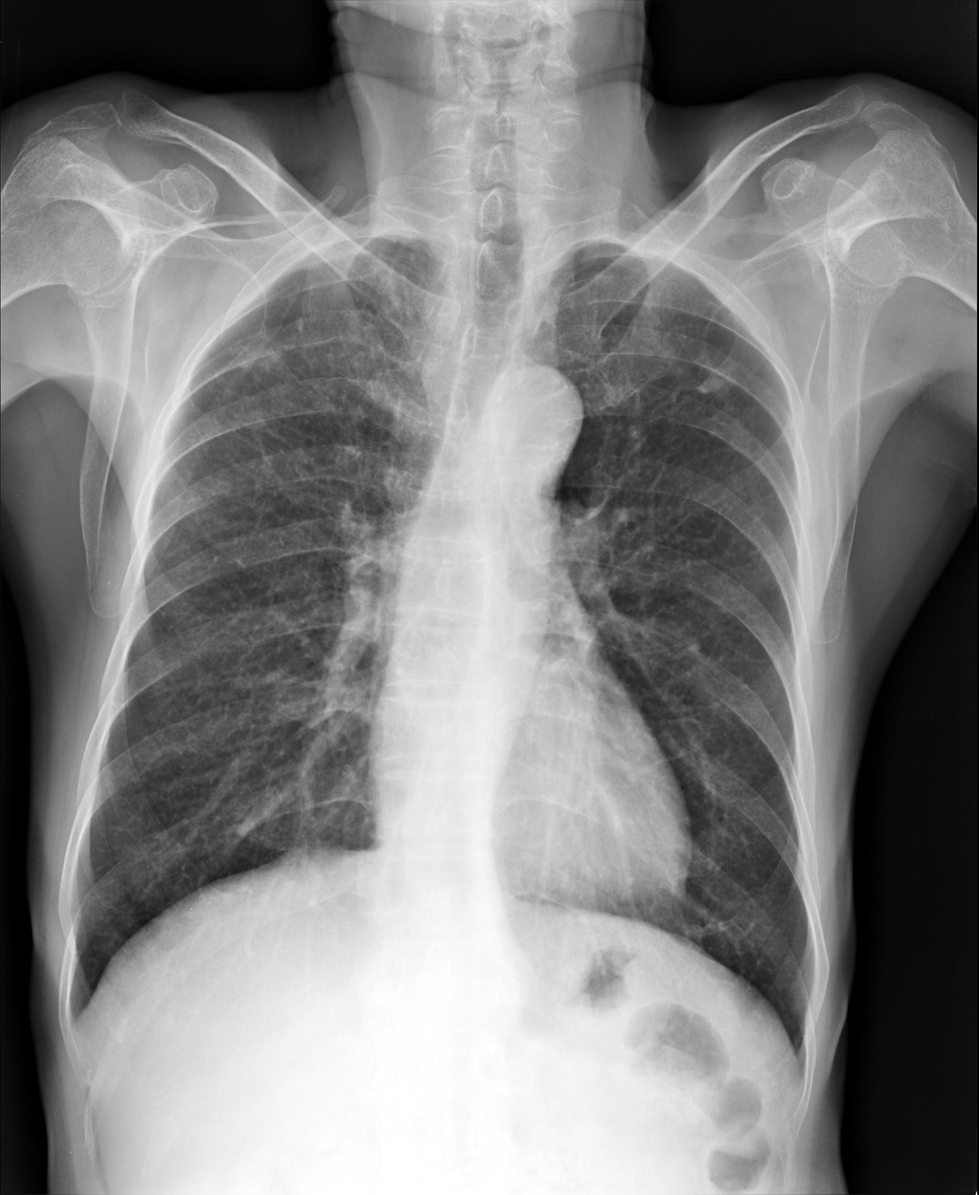Pleural thickening: (283, 228, 368, 263), (56, 994, 85, 1041)
Pulmonary fibrosis: (228, 328, 302, 376), (694, 369, 735, 398)
